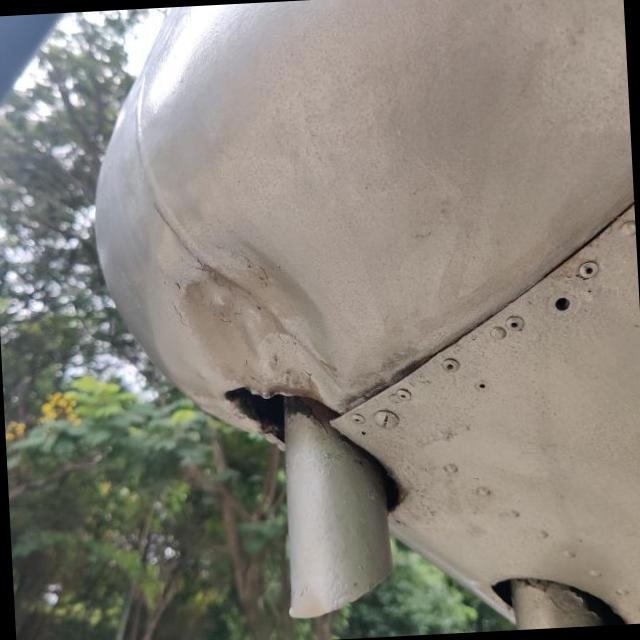Dent: (152, 213, 363, 436)
